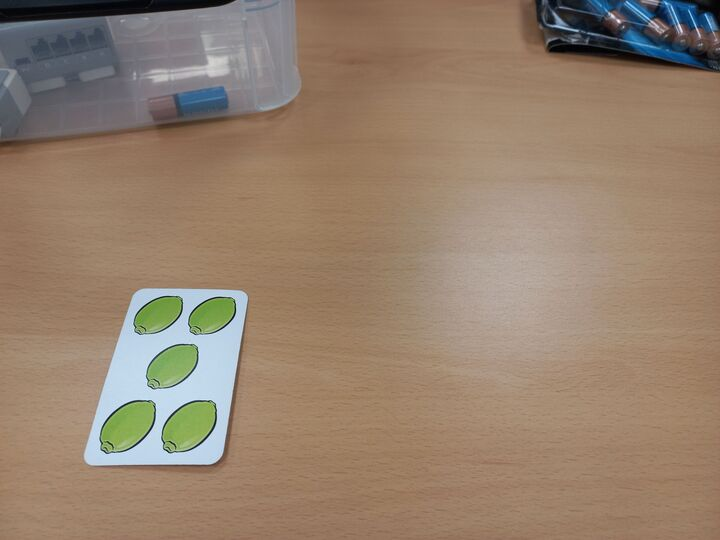lime5: (78, 286, 249, 467)
